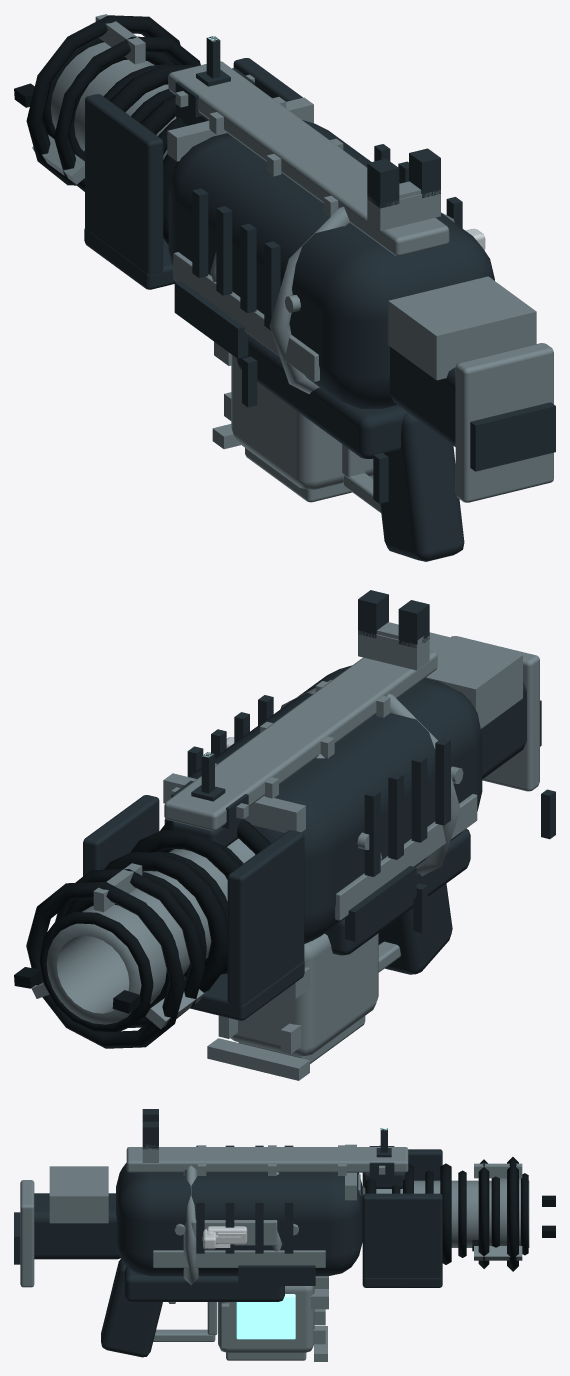
The model's file is weapon-4.glb.
3 renders of one model, top to bottom at view 1: azimuth 30°, elevation 25°; view 2: azimuth 150°, elevation 25°; view 3: azimuth 270°, elevation 25°, orthographic. The views are drawn at different scales.
Visible parts, largest first — view 1: body-dark, body-light, barrel-assembly-cavity, feed-light, barrel-assembly-light; view 2: body-dark, body-light, barrel-assembly-cavity, barrel-assembly-light, feed-light; view 3: body-dark, body-light, barrel-assembly-cavity, feed-light, barrel-assembly-light, feed-glow, bolt-trim.
Part boxes in pixels (<box>): body-dark: <box>84,36,555,561</box>; body-light: <box>167,61,553,512</box>; barrel-assembly-cavity: <box>14,15,201,244</box>; feed-light: <box>212,342,373,502</box>; barrel-assembly-light: <box>32,14,176,184</box>; body-dark: <box>83,590,555,1020</box>; body-light: <box>163,622,539,972</box>; barrel-assembly-cavity: <box>14,819,270,1048</box>; barrel-assembly-light: <box>31,838,255,1029</box>; feed-light: <box>207,933,378,1080</box>; body-dark: <box>14,1109,442,1357</box>; body-light: <box>20,1144,408,1341</box>; barrel-assembly-cavity: <box>365,1157,555,1271</box>; feed-light: <box>218,1276,328,1361</box>; barrel-assembly-light: <box>362,1163,529,1260</box>; feed-glow: <box>236,1294,295,1339</box>; bolt-trim: <box>202,1226,247,1249</box>.
Bounding box in the file's own units: 0.2995 × 0.4826 × 1.01.
